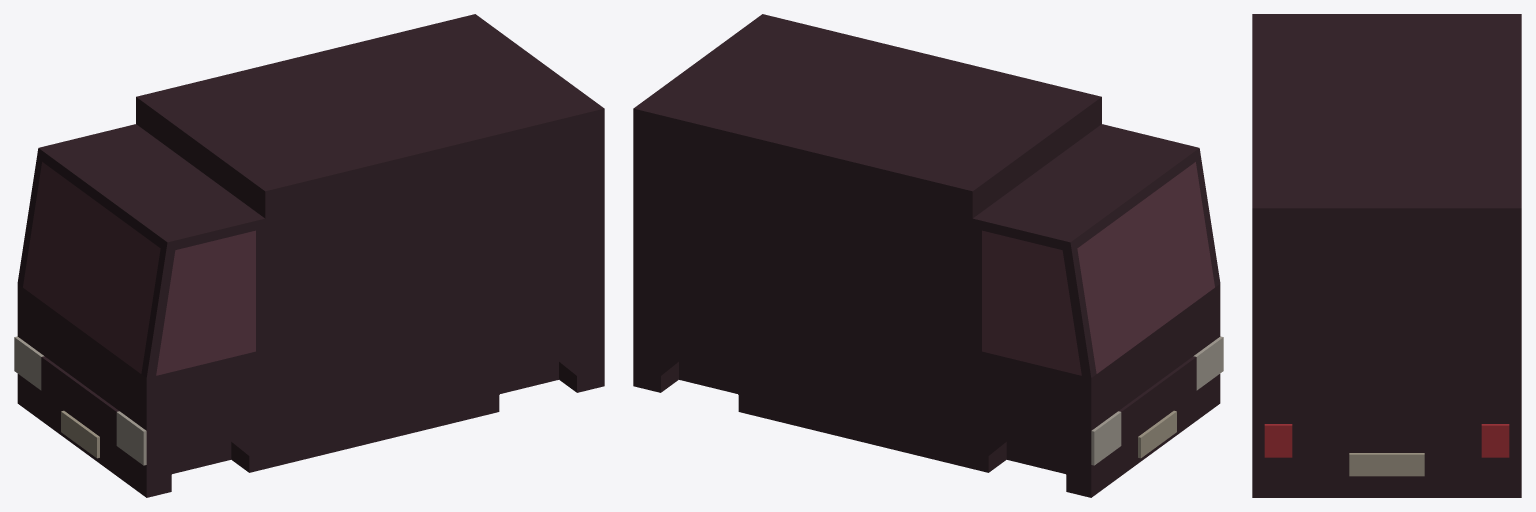
The model's file is MiniTruck_Black.fbx.
3 renders of one model, left to right at view 1: azimuth 30°, elevation 25°; view 2: azimuth 150°, elevation 25°; view 3: azimuth 270°, elevation 25°, orthographic. The views are drawn at different scales.
Parts seen in each view (by area): view 1: MiniTruck_Black, MiniTruck_Lights; view 2: MiniTruck_Black, MiniTruck_Lights; view 3: MiniTruck_Black, MiniTruck_Lights.
Part boxes in pixels (x1,y1,x2,y2): MiniTruck_Black: (17, 14, 604, 497); MiniTruck_Lights: (14, 336, 146, 465); MiniTruck_Black: (633, 14, 1220, 497); MiniTruck_Lights: (1091, 336, 1223, 465); MiniTruck_Black: (1252, 14, 1521, 497); MiniTruck_Lights: (1264, 424, 1509, 457).
Size of the model in its own units: 4.46 by 2.55 by 2.15.
